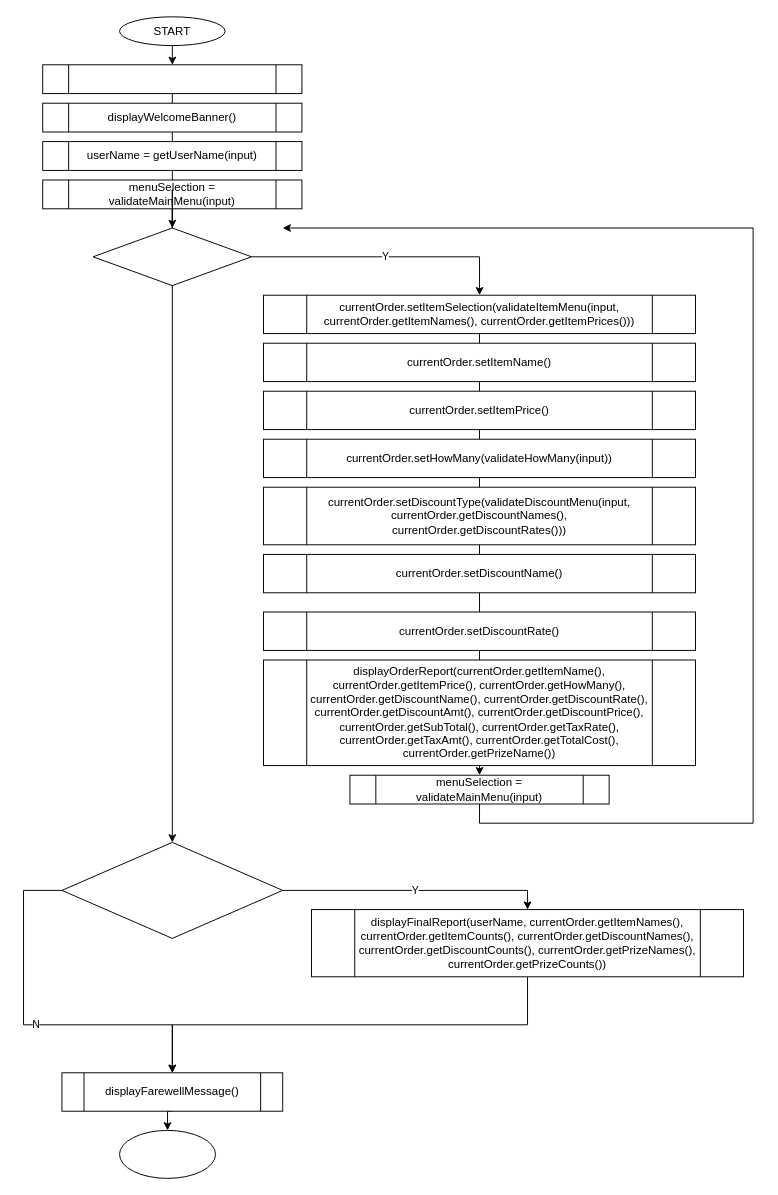
This 778x1195 diagram has some shape labels left out. The centre of each missing label's shape, as x and y in pixels:
"currentOrder.getTotalCost() > 0.0" belongs at point 172,889.
"menuSelection != 'Q'" belongs at point 172,256.
"Order currentOrder = new Order()" belongs at point 172,79.
"STOP" belongs at point 167,1153.
